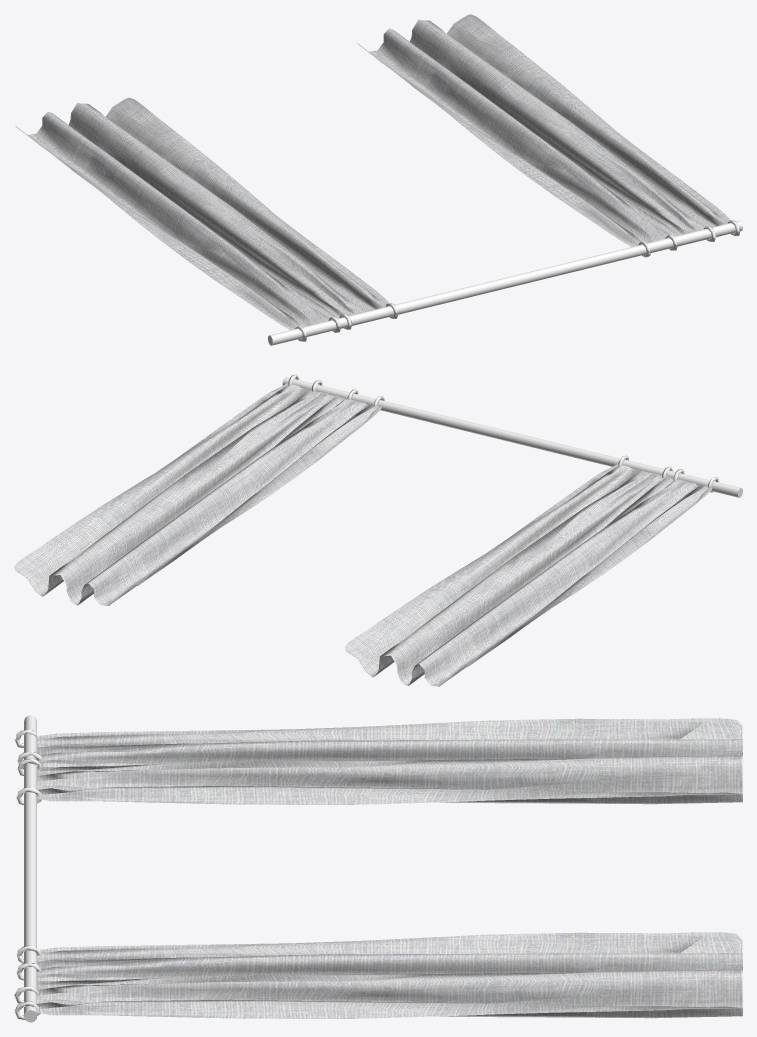
Rendered from curtain.glb.
3 renders of one model, top to bottom at view 1: azimuth 30°, elevation 25°; view 2: azimuth 150°, elevation 25°; view 3: azimuth 270°, elevation 25°, orthographic. The views are drawn at different scales.
Parts seen in each view (by area): view 1: Object_4; view 2: Object_4; view 3: Object_4.
Part boxes in pixels (<box>): Object_4: <box>15,14,742,345</box>; Object_4: <box>14,374,742,686</box>; Object_4: <box>14,715,742,1022</box>.
Bounding box in the file's own units: 0.7663 × 0.0423 × 0.7892.
Materials: 3 (1 with a texture image).
